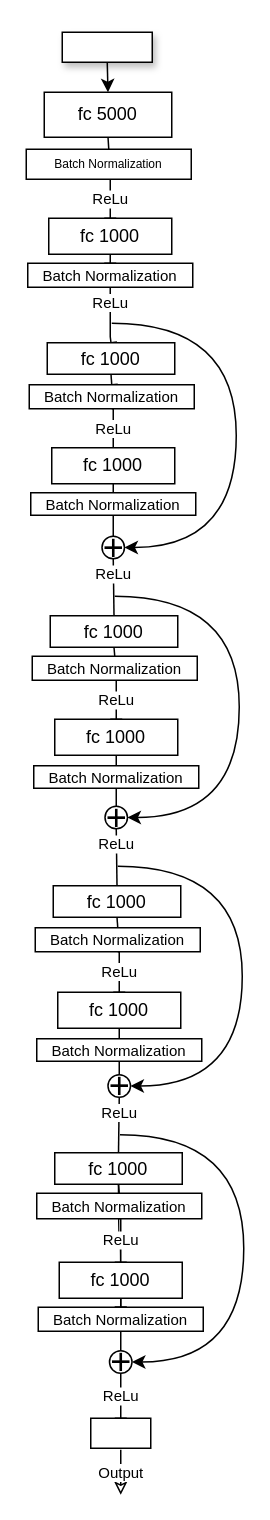
Image size: 270x1520. Some labels were removed from this diagram. The centre of each missing label's shape, as x and y in pixels:
fc 1: pixel 120 1432
Input state: pixel 108 49
